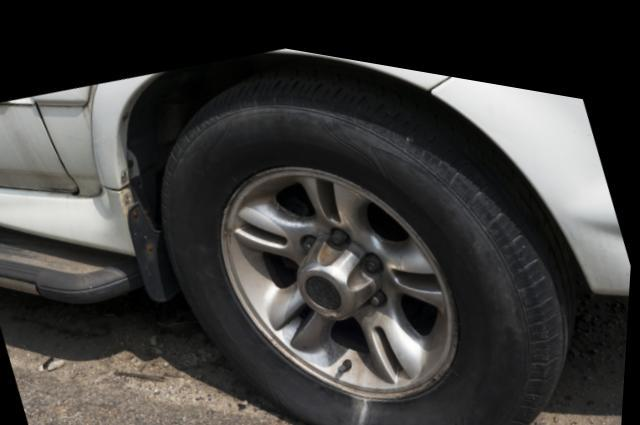tire flat: (162, 64, 574, 425)
